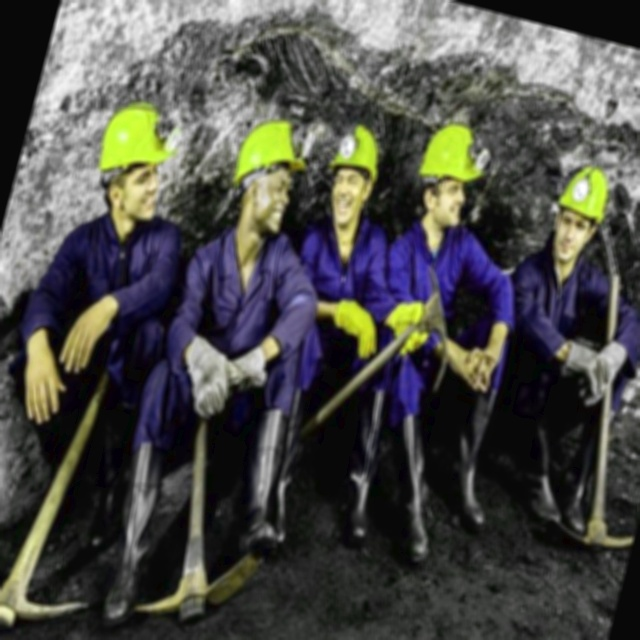Con_Casco: (84, 97, 187, 227), (222, 108, 318, 244), (320, 120, 389, 228)
